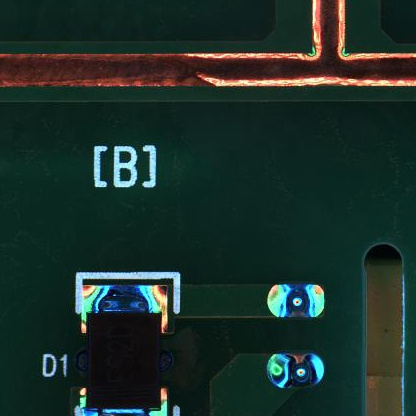spot: (263, 350, 327, 388), (266, 282, 326, 320)
